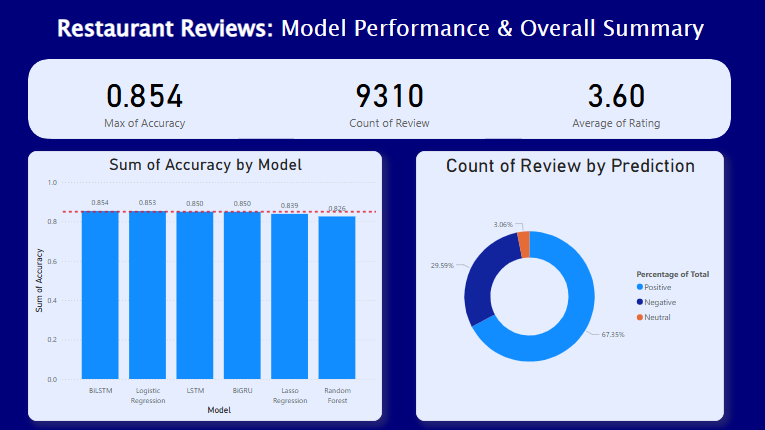

This screenshot's page, from the dashboard's own definition file:
{"tool":"powerbi","page":{"name":"Model Performance Overview","canvas":[1280,720],"ordinal":0},"visuals":[{"type":"textbox","box":[65,15,1145,70],"z":0},{"type":"clusteredColumnChart","fields":{"Category":["model_accuracies (1).Model"],"Y":["Sum(model_accuracies (1).Accuracy)"]},"box":[50,253.3,590,450],"z":1000},{"type":"shape","box":[50,100,1171.7,133.3],"z":1500},{"type":"card","fields":{"Values":["Max(model_accuracies (1).Accuracy)"]},"box":[88.3,100,311.7,133.3],"z":2000},{"type":"donutChart","title":"Count of Review by Prediction","fields":{"Category":["sentiment_analysis_data.predicted_label_text"],"Y":["CountNonNull(sentiment_analysis_data.Review)"]},"box":[696.7,253.3,513.3,450],"z":3000},{"type":"card","fields":{"Values":["CountNonNull(sentiment_analysis_data.Review)"]},"box":[493.3,100,318.3,133.3],"z":4000},{"type":"card","fields":{"Values":["Avg(sentiment_analysis_data.Rating)"]},"box":[873.3,100,315,133.3],"z":5000}]}

Visuals, with their boxes in screenshot pixels (x1, y1, x2, y2), scaled from the page's 1280x720 canvas onto the 765x430 screenshot:
textbox: 39 9 723 51
clusteredColumnChart - model_accuracies (1).Model x Sum(model_accuracies (1).Accuracy): 30 151 382 420
shape: 30 60 730 139
card - Max(model_accuracies (1).Accuracy): 53 60 239 139
"Count of Review by Prediction" donutChart: 416 151 723 420
card - CountNonNull(sentiment_analysis_data.Review): 295 60 485 139
card - Avg(sentiment_analysis_data.Rating): 522 60 710 139
